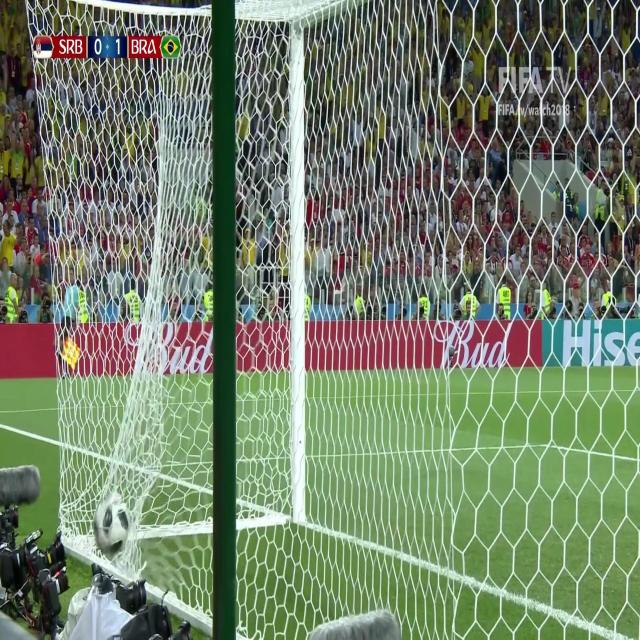ball: (93, 490, 131, 559)
